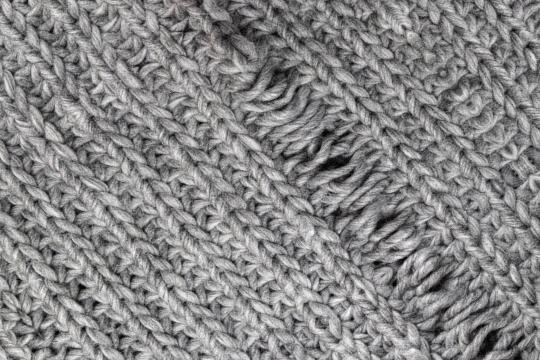slub: (230, 56, 538, 360)
